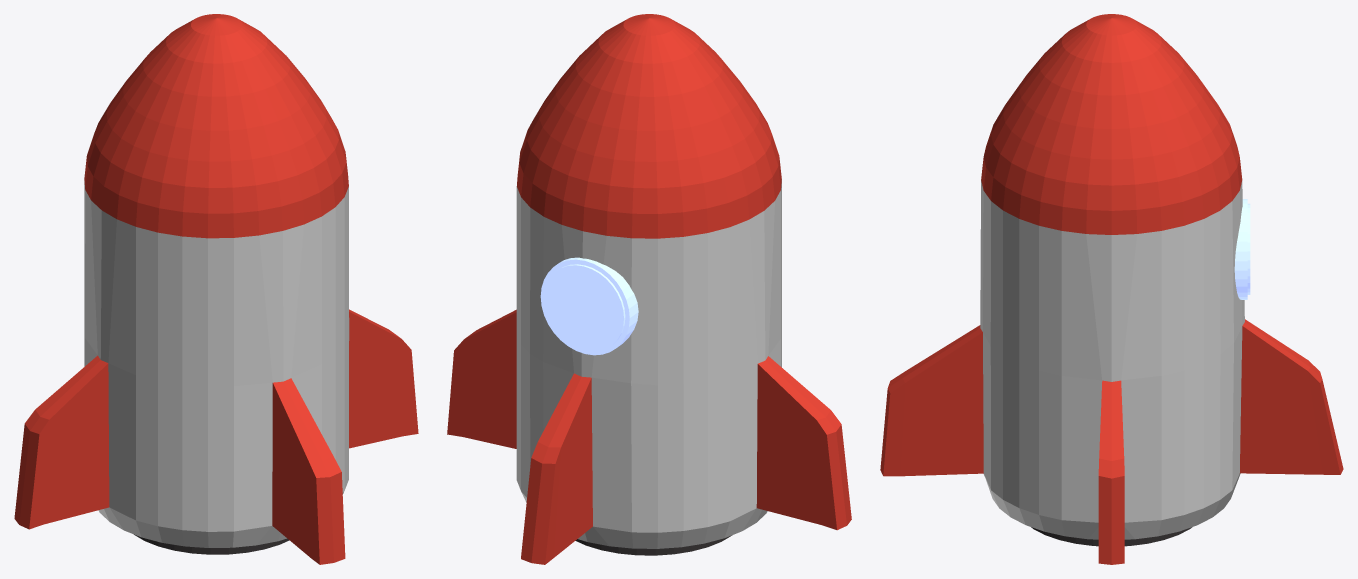
Rendered from spaceship.fbx.
3 views of the same model, side by side, from view 1: azimuth 30°, elevation 25°; view 2: azimuth 150°, elevation 25°; view 3: azimuth 270°, elevation 25° (orthographic).
Visible parts, largest first — view 1: Cylinder.004; view 2: Cylinder.004; view 3: Cylinder.004.
Part boxes in pixels (left/top/right/bottom): Cylinder.004: left=14, top=14, right=418, bottom=564; Cylinder.004: left=447, top=14, right=851, bottom=564; Cylinder.004: left=880, top=14, right=1343, bottom=564.
Size of the model in its own units: 344 by 413 by 355.
